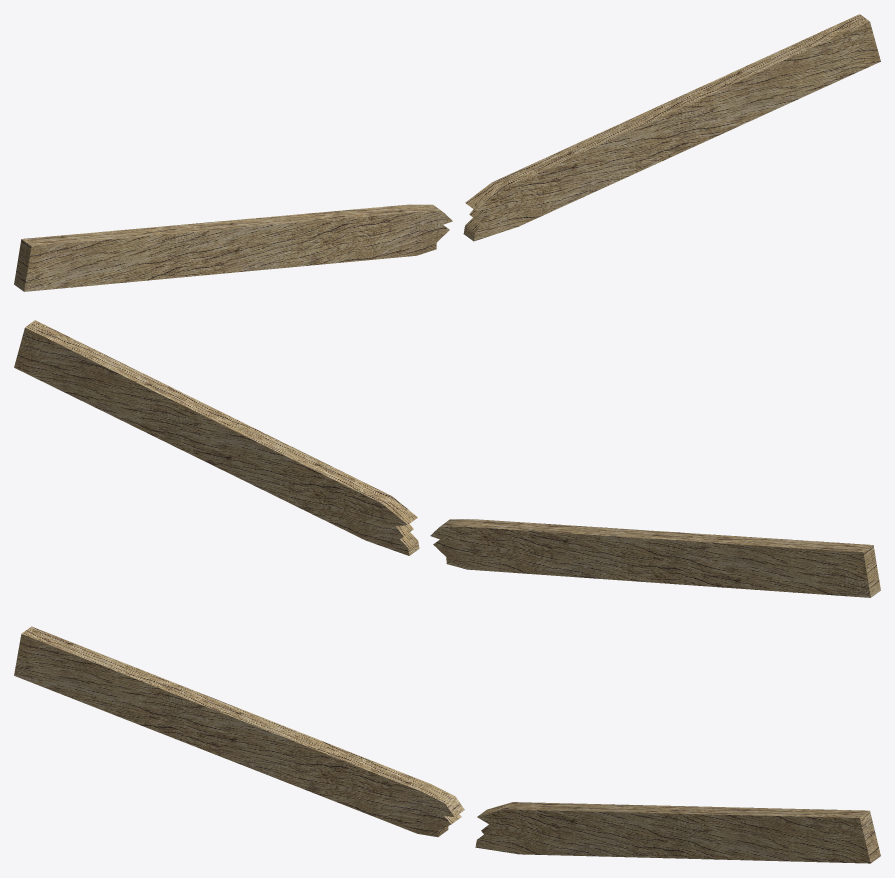
File: woodenPlank07.FBX
3 views of the same model, one above another, from view 1: azimuth 30°, elevation 25°; view 2: azimuth 150°, elevation 25°; view 3: azimuth 330°, elevation 25° (orthographic).
Parts seen in each view (by area): view 1: wooden_fence_plank_large4; view 2: wooden_fence_plank_large4; view 3: wooden_fence_plank_large4.
Boxes of the visible parts, left/top/right/bottom form: wooden_fence_plank_large4: left=14, top=14, right=880, bottom=291; wooden_fence_plank_large4: left=14, top=320, right=880, bottom=597; wooden_fence_plank_large4: left=14, top=626, right=880, bottom=863.
Size of the model in its own units: 423 by 60.91 by 13.75.
